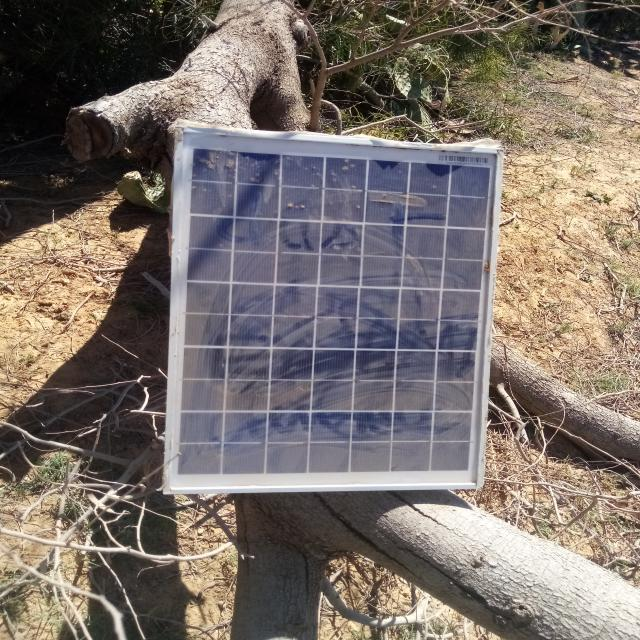faulty: (164, 129, 501, 492)
